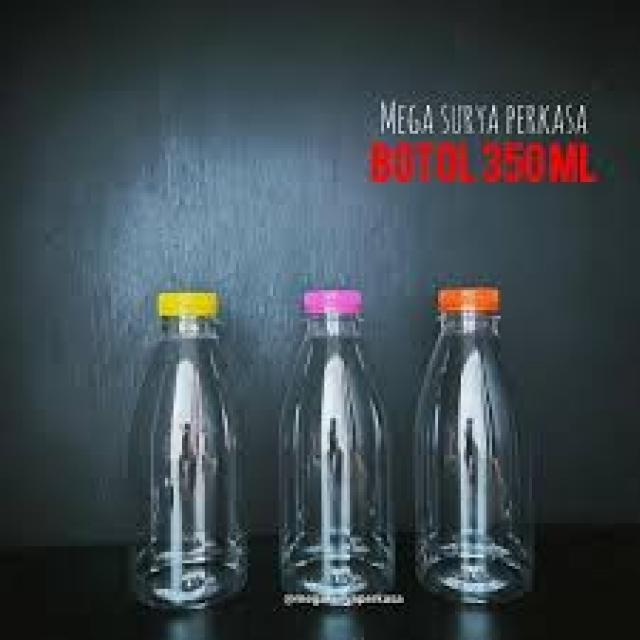good: (86, 272, 260, 614), (276, 291, 420, 616), (415, 276, 549, 604)
